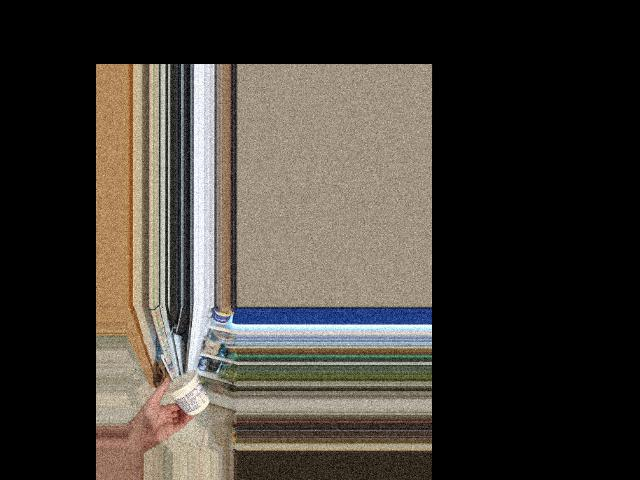cotage: (161, 372, 204, 417)
